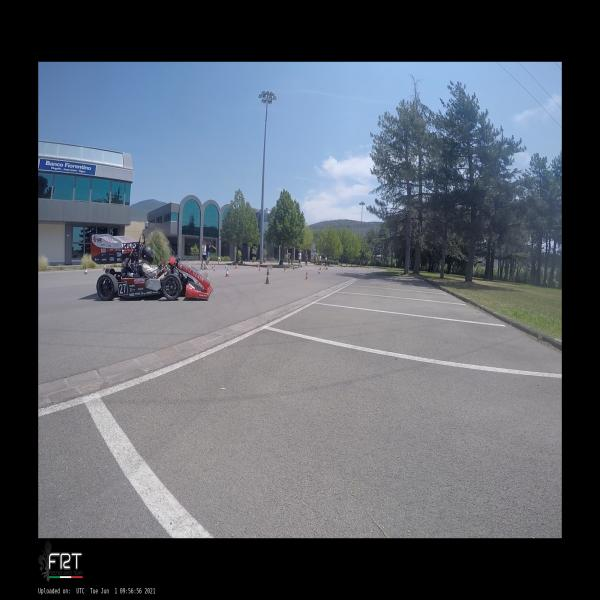blue_cone: (204, 264, 205, 269)
large_orange_cone: (266, 266, 270, 274)
orange_cone: (224, 269, 230, 277), (83, 267, 89, 274), (305, 272, 309, 280), (234, 263, 238, 269), (213, 265, 217, 271), (102, 264, 106, 270), (211, 263, 214, 269), (258, 265, 261, 271), (270, 264, 273, 270), (225, 263, 227, 269), (257, 264, 259, 267)
unknown_cone: (264, 274, 270, 284), (292, 264, 295, 270), (318, 268, 320, 274), (325, 267, 328, 270), (231, 262, 233, 266), (341, 266, 343, 269), (353, 266, 355, 269)
yellow_cone: (284, 266, 286, 272)
